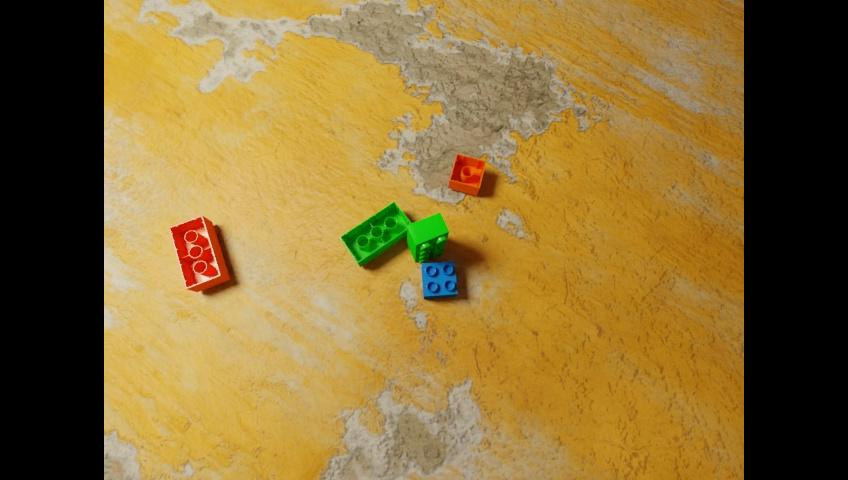2x2_blue: (421, 261, 456, 298)
2x2_orange: (449, 153, 485, 195)
4x2_green: (339, 201, 411, 266), (407, 211, 448, 263)
4x2_orange: (168, 214, 229, 291)
